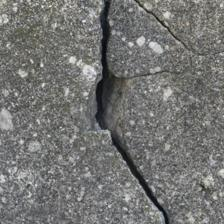Crack: (0, 33, 189, 84), (73, 152, 186, 180)
